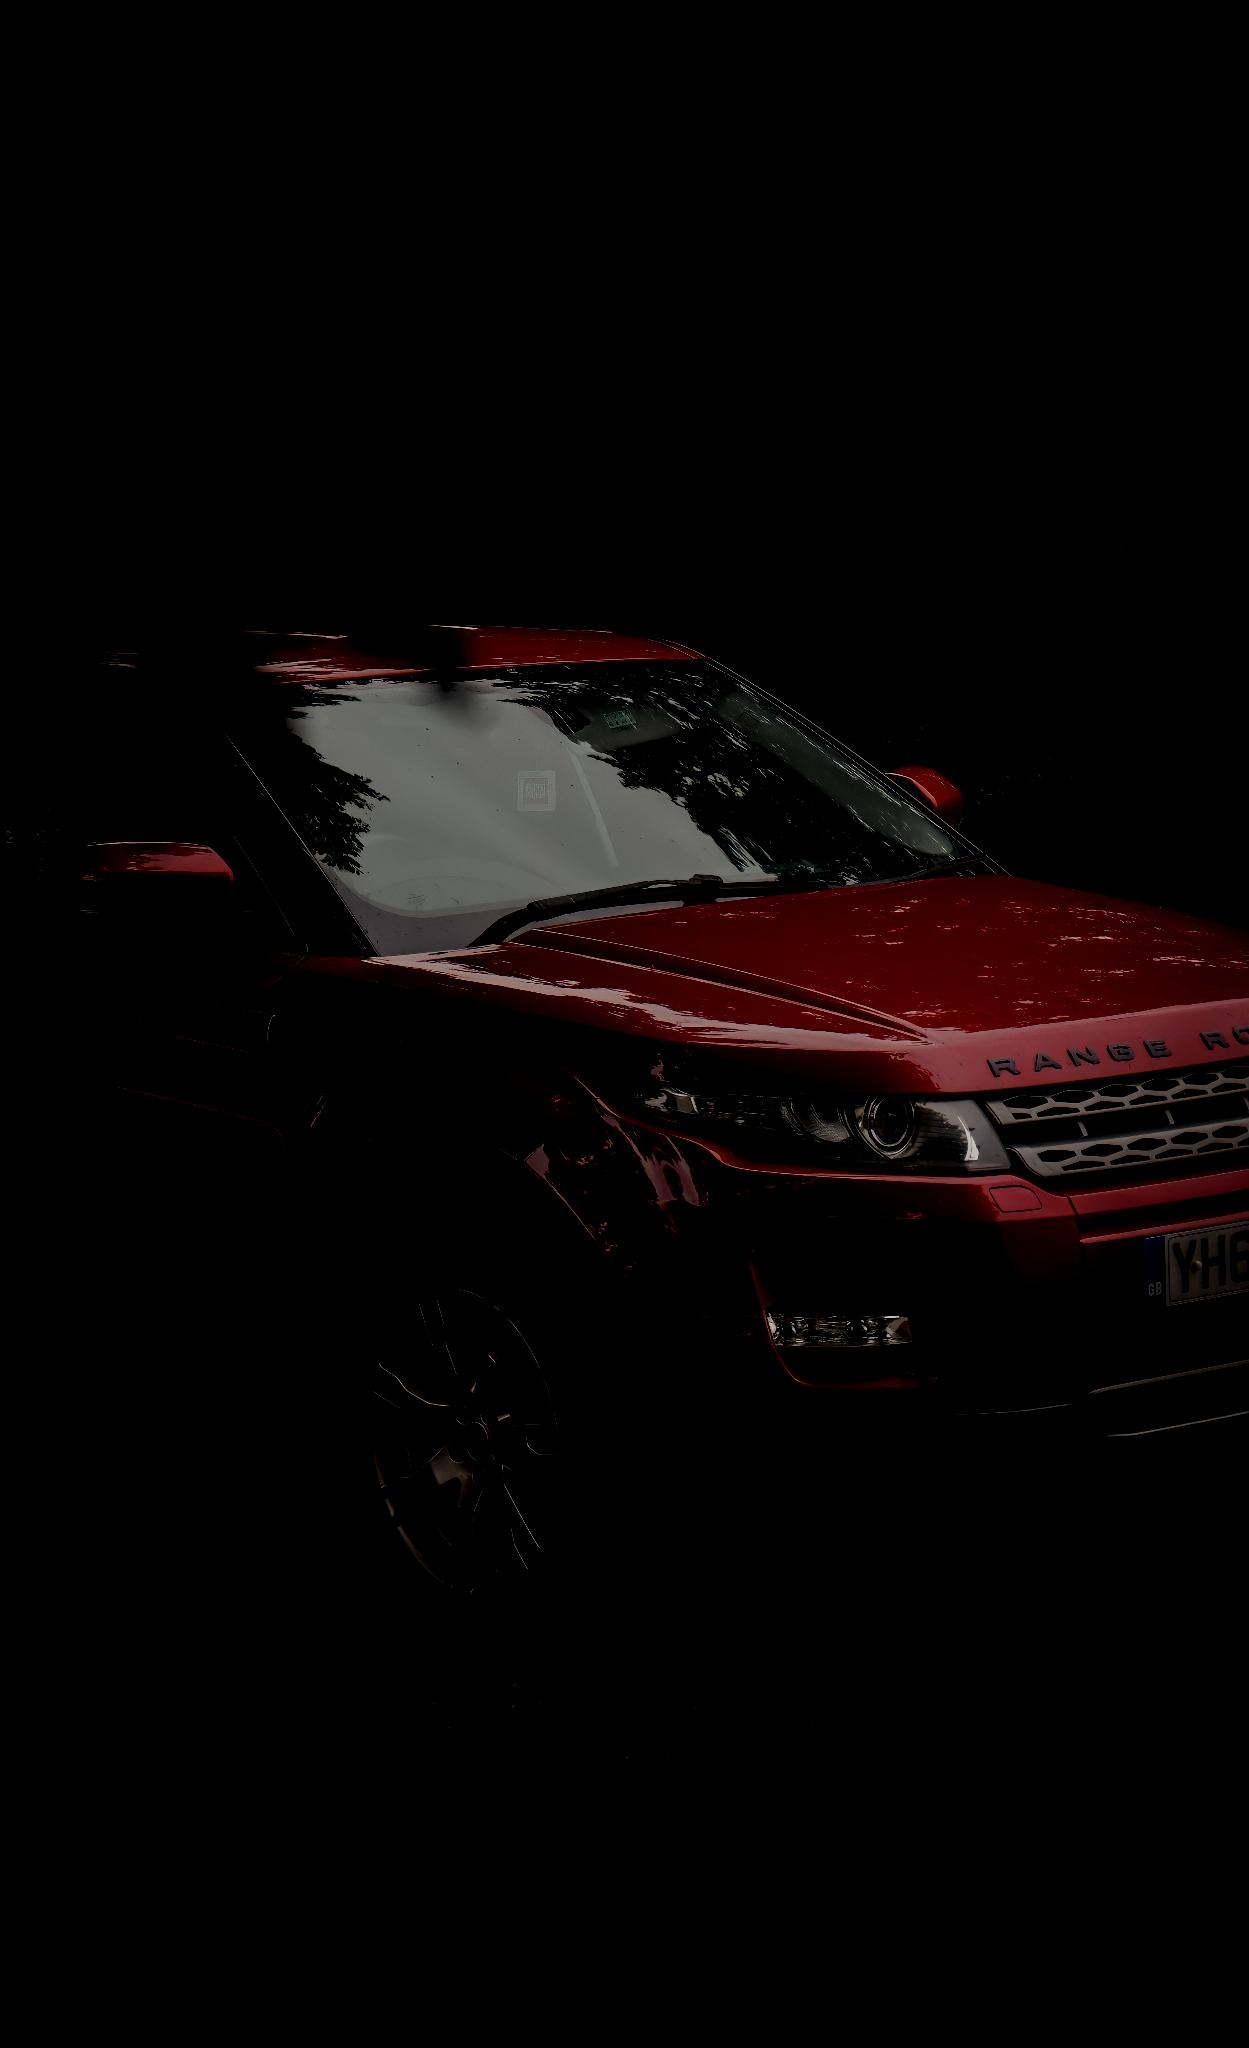range rover: (962, 1015, 1249, 1097)
